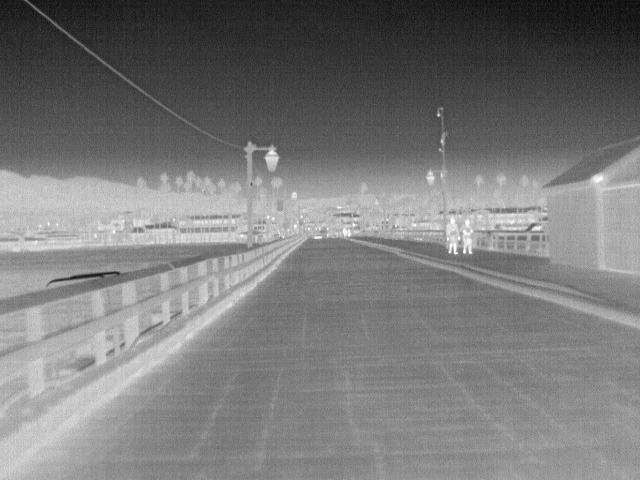person: (445, 215, 462, 255), (459, 218, 475, 256)
